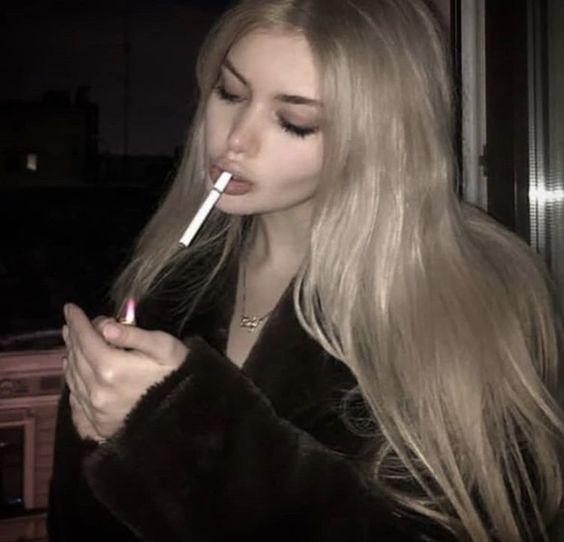cigarette: (178, 170, 233, 248)
